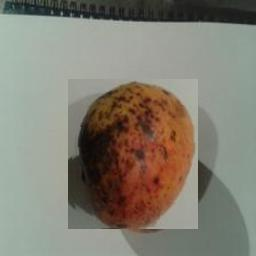Mango Rotten: (68, 79, 198, 229)
